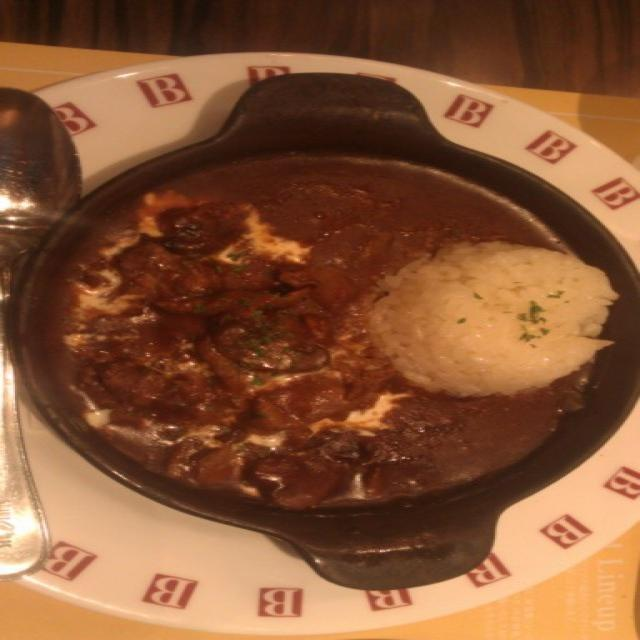Beef Curry: (87, 170, 362, 500)
